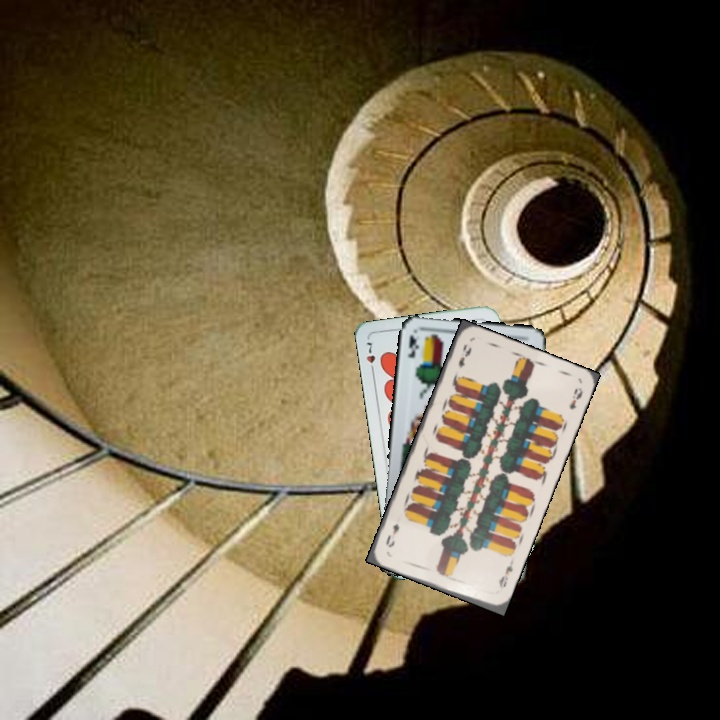E9: (495, 558, 516, 591), (454, 340, 474, 371)
EK: (404, 332, 421, 360)
H7: (362, 338, 378, 377)
